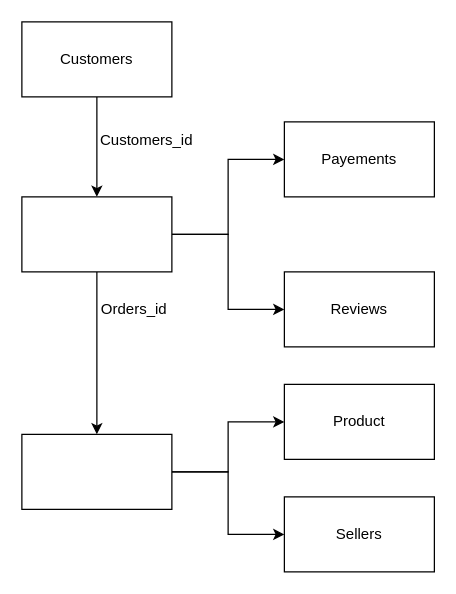
Image size: 456x594. Some labels were removed from this diagram. Here are the shapes that lost their labels. From the top down, the centre of each, then its label:
[96,234]: Orders
[96,471]: Orders Items
